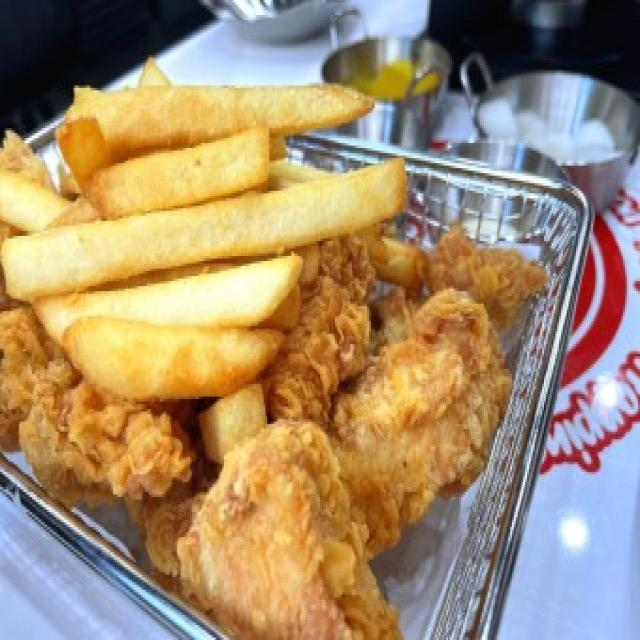Frango: (0, 228, 540, 640)
